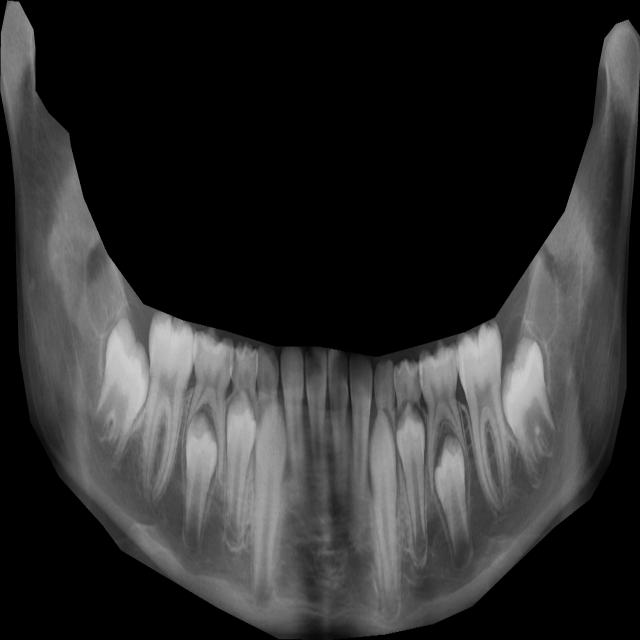mandibula: (0, 0, 640, 640)
